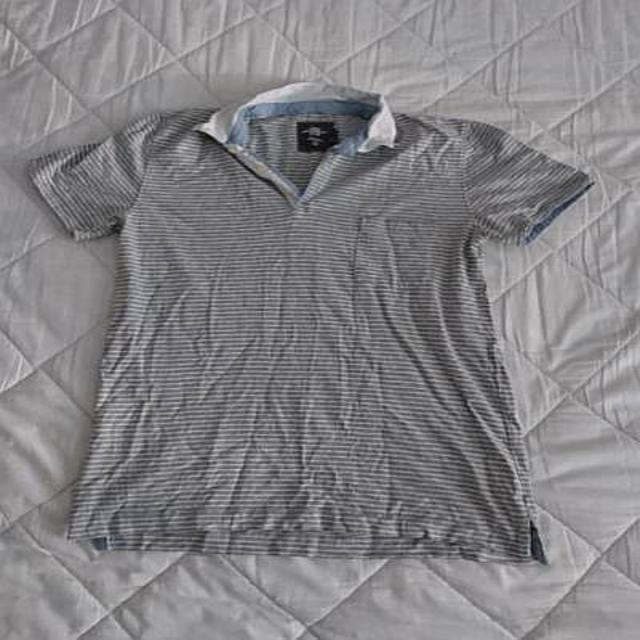T_SHIRT: (20, 71, 617, 574)
